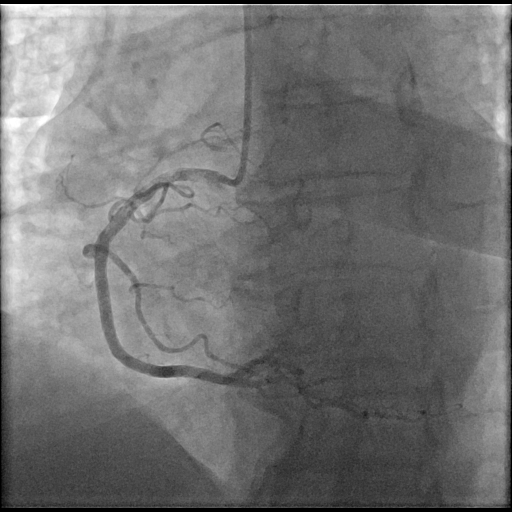RCA: (67, 168, 304, 387)
catherter: (225, 5, 253, 185)
